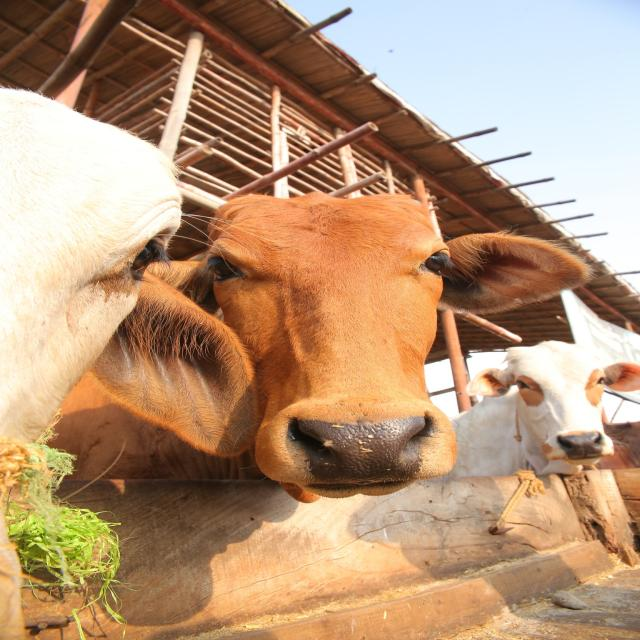muzzles: (271, 404, 447, 490), (549, 428, 611, 463)
